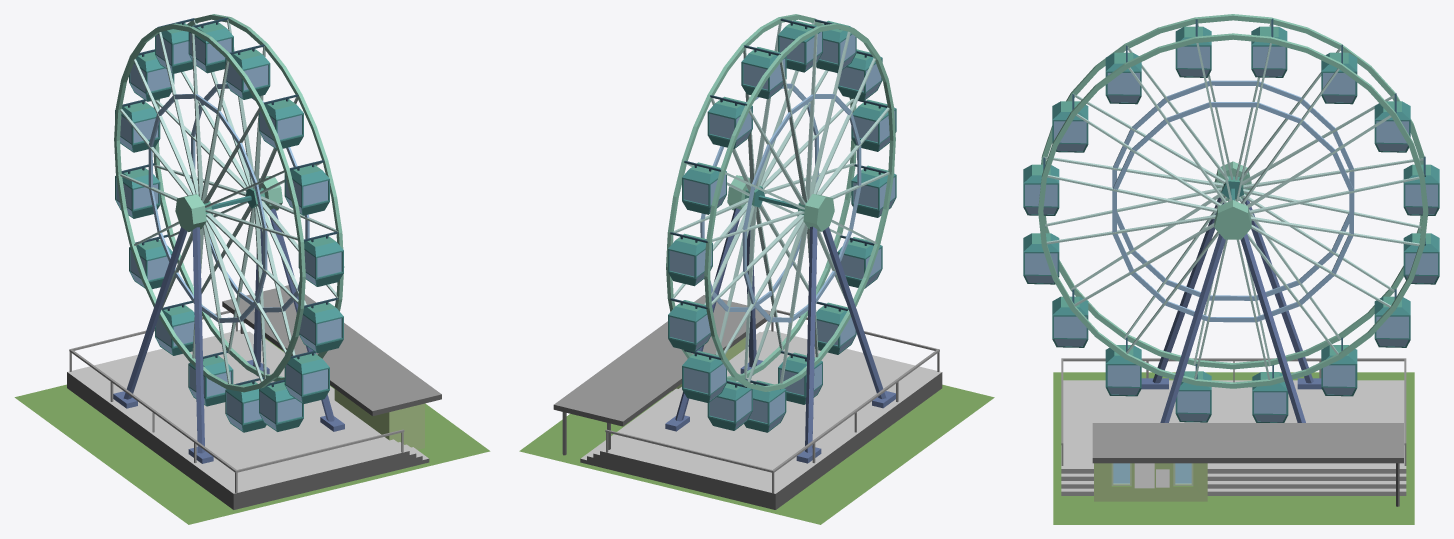
Rendered from landscape_entertainment_005.glb.
3 views of the same model, side by side, from view 1: azimuth 30°, elevation 25°; view 2: azimuth 150°, elevation 25°; view 3: azimuth 270°, elevation 25° (orthographic). The views are drawn at different scales.
Visible parts, largest first — view 1: landscape_entertainment_005; view 2: landscape_entertainment_005; view 3: landscape_entertainment_005.
Boxes of the visible parts, x1,y1,x2,y2 form: landscape_entertainment_005: (14, 14, 490, 524); landscape_entertainment_005: (519, 14, 994, 524); landscape_entertainment_005: (1023, 14, 1439, 524).
Bounding box in the file's own units: 16 × 20.24 × 18.44.
1 material, 1 textured.
